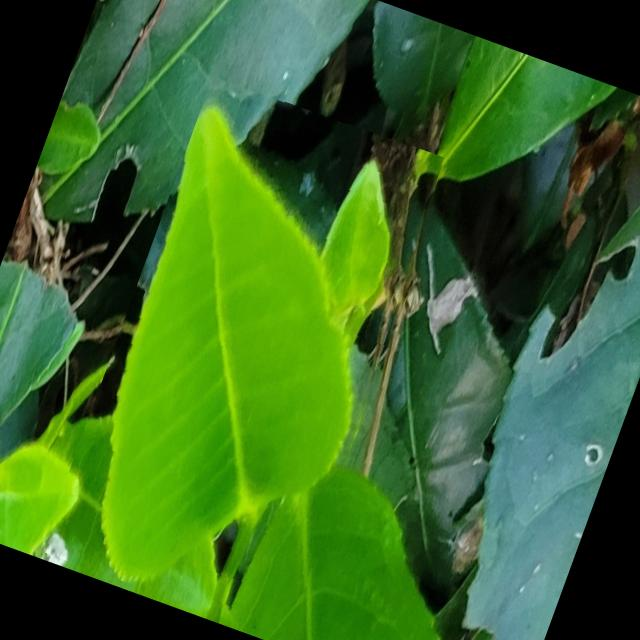Catagory A(1-2 days): (39, 73, 461, 640)
